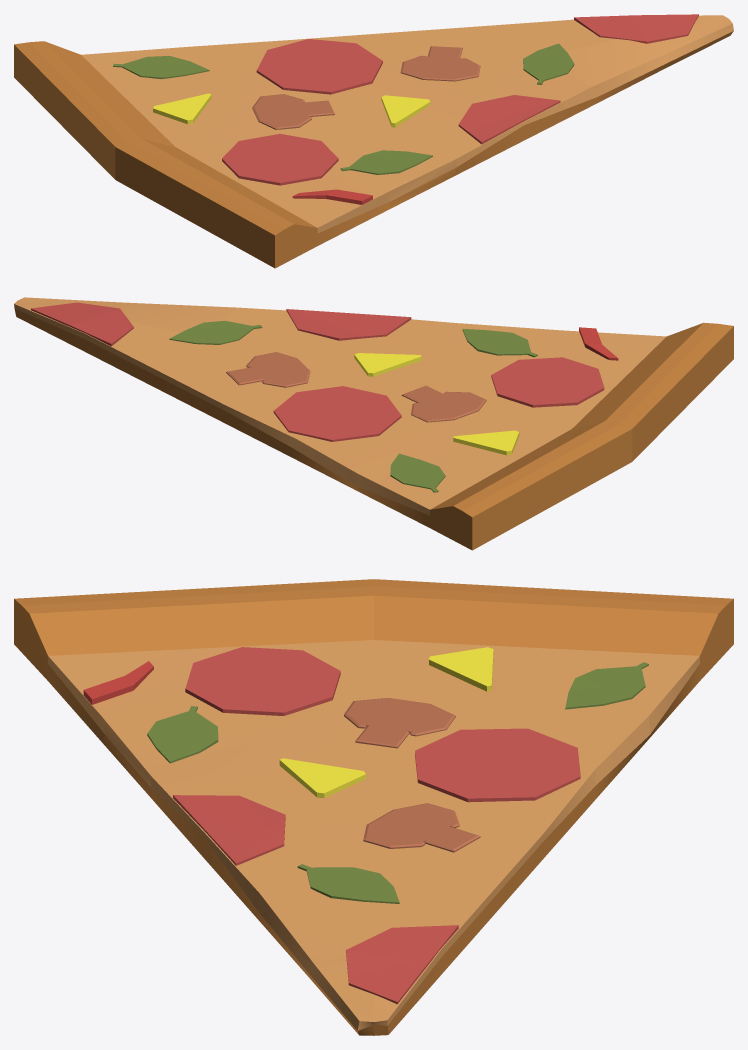
The model's file is Pizza_02.fbx.
3 views of the same model, one above another, from view 1: azimuth 30°, elevation 25°; view 2: azimuth 150°, elevation 25°; view 3: azimuth 270°, elevation 25° (orthographic). The views are drawn at different scales.
Visible parts, largest first — view 1: Pizza_02; view 2: Pizza_02; view 3: Pizza_02.
Boxes of the visible parts, x1=… form: Pizza_02: x1=14, y1=14, x2=733, y2=268; Pizza_02: x1=14, y1=297, x2=733, y2=550; Pizza_02: x1=14, y1=579, x2=733, y2=1035.
Bounding box in the file's own units: 13.92 × 0.7555 × 10.26.
